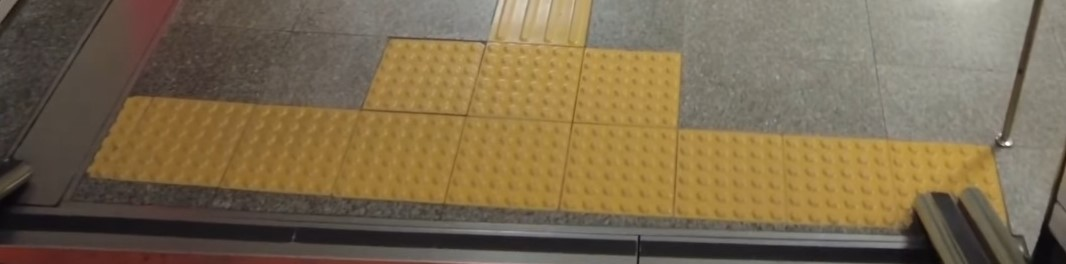warningBlock: (573, 46, 685, 140), (685, 127, 801, 217), (461, 115, 570, 210), (577, 122, 683, 215), (335, 113, 447, 198), (225, 102, 332, 188), (898, 145, 1014, 223), (794, 132, 889, 223), (387, 34, 477, 129), (478, 37, 572, 125), (128, 96, 214, 189)
